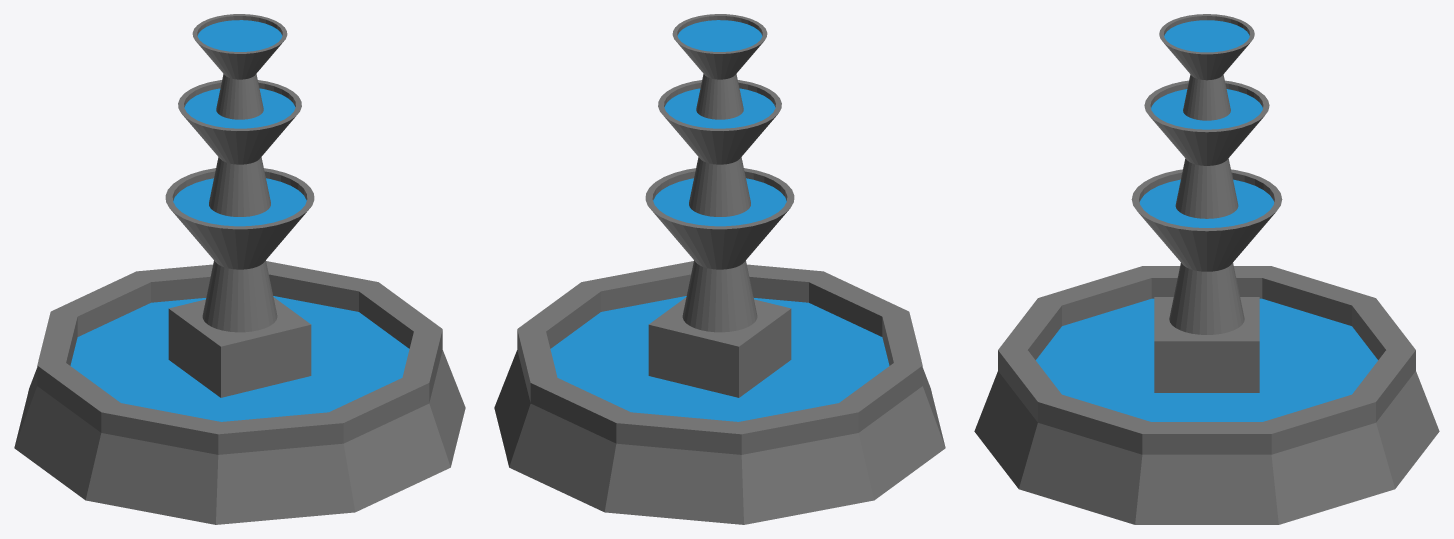
File: Fountain.fbx
3 views of the same model, side by side, from view 1: azimuth 30°, elevation 25°; view 2: azimuth 150°, elevation 25°; view 3: azimuth 270°, elevation 25° (orthographic).
Parts seen in each view (by area): view 1: Cylinder, Cube, Cone, Cone.001, Cone.002, Cylinder.001, Cylinder.002, Cylinder.003; view 2: Cylinder, Cube, Cone, Cone.001, Cone.002, Cylinder.001, Cylinder.002, Cylinder.003; view 3: Cylinder, Cone, Cube, Cone.001, Cone.002, Cylinder.001, Cylinder.002, Cylinder.003.
Part boxes in pixels (bbox=[...]): Cylinder: bbox=[14, 261, 465, 524]; Cube: bbox=[168, 297, 311, 397]; Cone: bbox=[165, 168, 314, 269]; Cone.001: bbox=[178, 80, 301, 164]; Cone.002: bbox=[192, 14, 287, 79]; Cylinder.001: bbox=[202, 260, 277, 332]; Cylinder.002: bbox=[209, 157, 270, 216]; Cylinder.003: bbox=[216, 74, 263, 119]; Cylinder: bbox=[494, 261, 945, 524]; Cube: bbox=[648, 297, 791, 397]; Cone: bbox=[645, 168, 794, 269]; Cone.001: bbox=[658, 80, 781, 164]; Cone.002: bbox=[672, 14, 767, 79]; Cylinder.001: bbox=[682, 260, 757, 332]; Cylinder.002: bbox=[689, 157, 750, 216]; Cylinder.003: bbox=[696, 74, 743, 119]; Cylinder: bbox=[974, 266, 1439, 524]; Cone: bbox=[1131, 169, 1282, 271]; Cube: bbox=[1154, 297, 1259, 392]; Cone.001: bbox=[1144, 80, 1269, 165]; Cone.002: bbox=[1159, 14, 1254, 80]; Cylinder.001: bbox=[1169, 263, 1244, 334]; Cylinder.002: bbox=[1175, 158, 1238, 218]; Cylinder.003: bbox=[1183, 74, 1230, 120].
Size of the model in its own units: 190 by 188 by 200.
